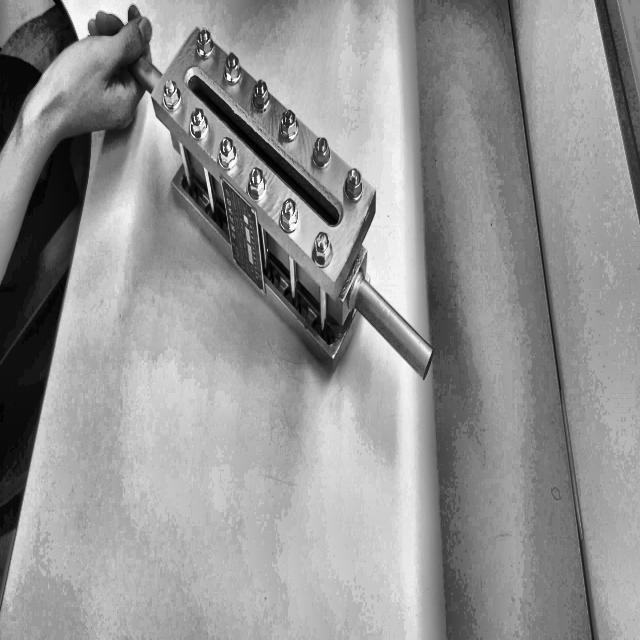ShuiWeiQi_12: (148, 28, 442, 394)
